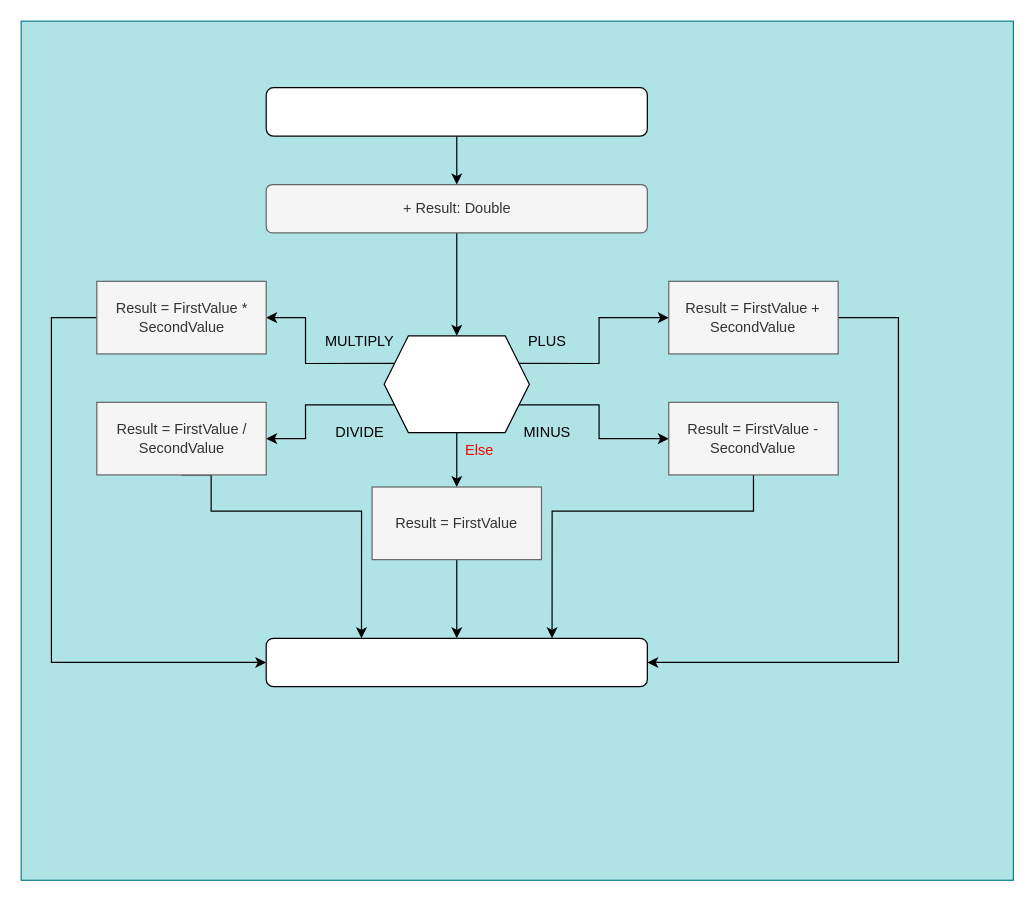
The diagram is 1035 pixels wide and 901 high, and some of its shapes have lost their labels. Here are the shapes that lost their labels. From the top down, the centre of each, then its label:
At pixel 456 111: "Calculate(FirstValue, SecondValue, Operation) : Double".
At pixel 456 384: "Switch (Operation)".
At pixel 456 662: "Return Result".
